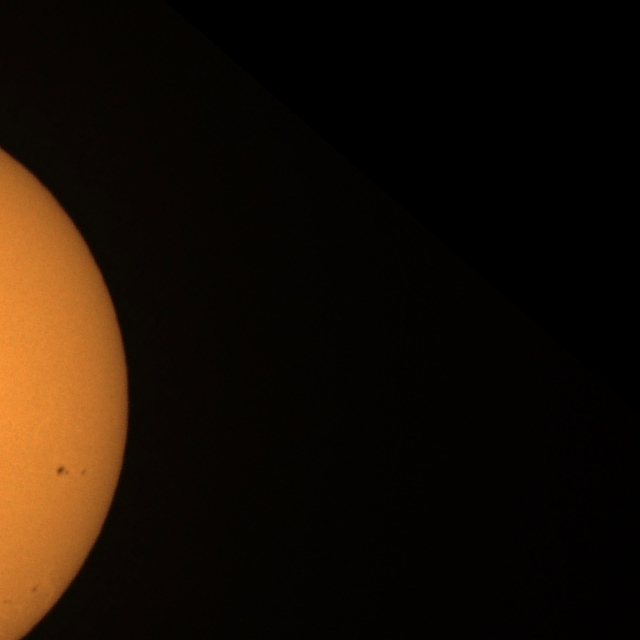sunspot: (54, 464, 89, 480), (55, 465, 70, 477), (30, 585, 39, 594), (80, 467, 88, 477)
